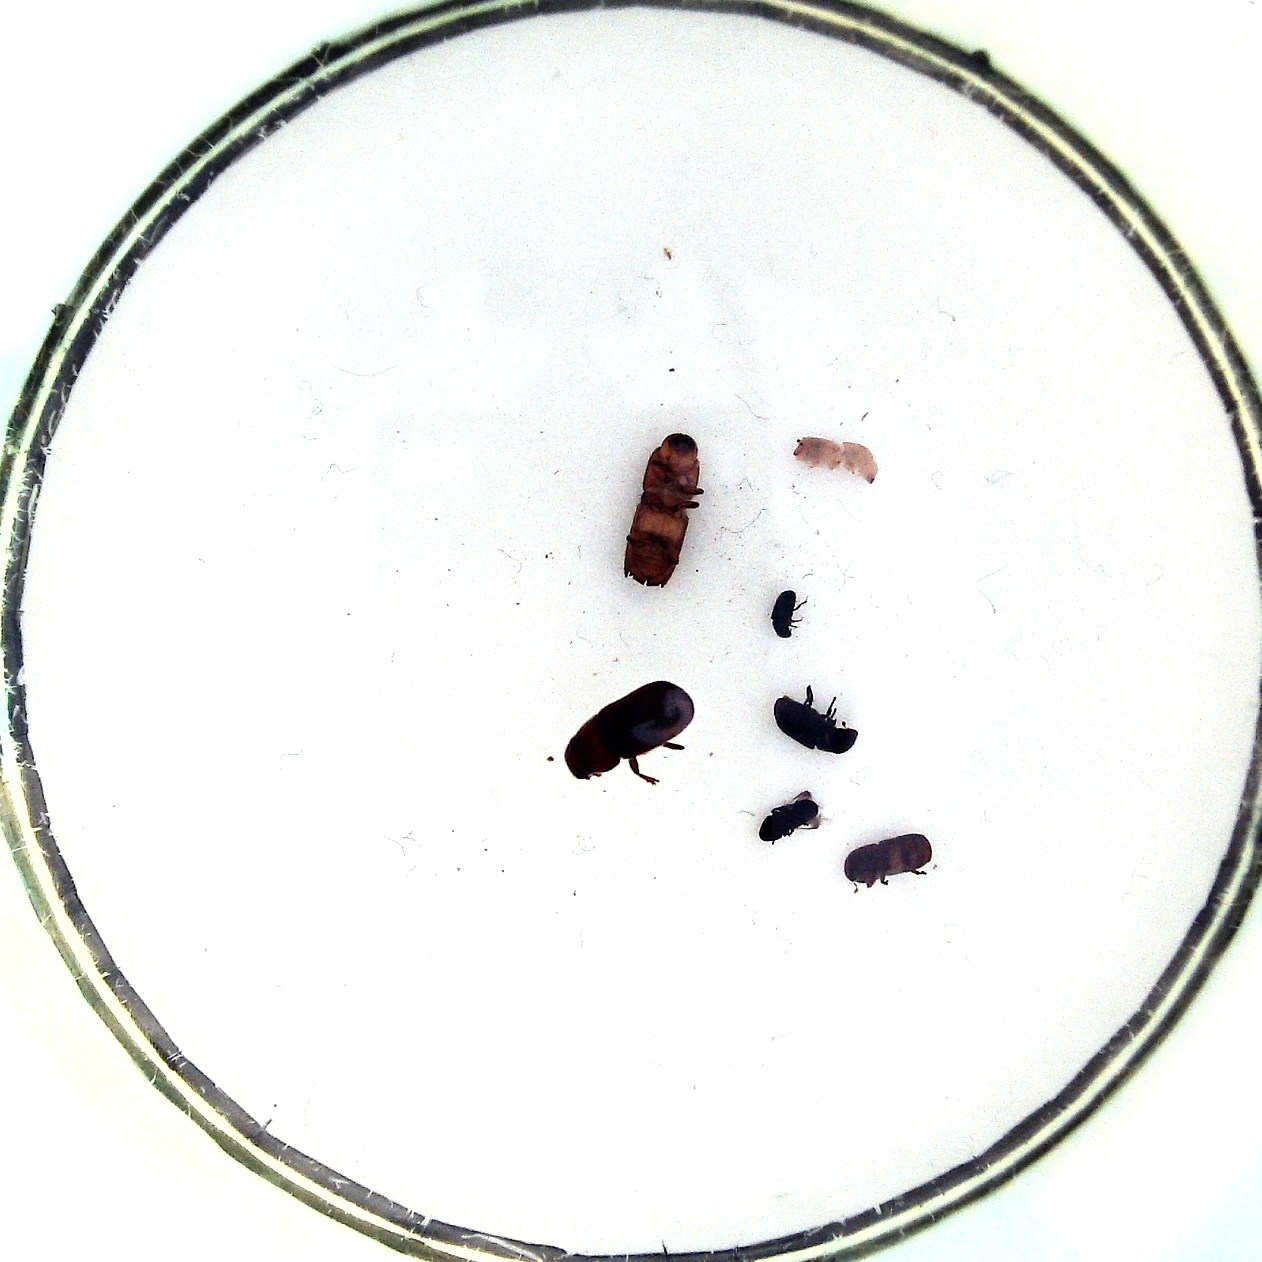Boerner: (613, 428, 708, 591)
Leconte: (558, 676, 700, 789)
Linnaeus: (841, 832, 936, 891)
acuminatus: (787, 432, 884, 484)
armandi: (769, 682, 866, 758)
coleoptera: (754, 784, 827, 848), (766, 584, 808, 641)
